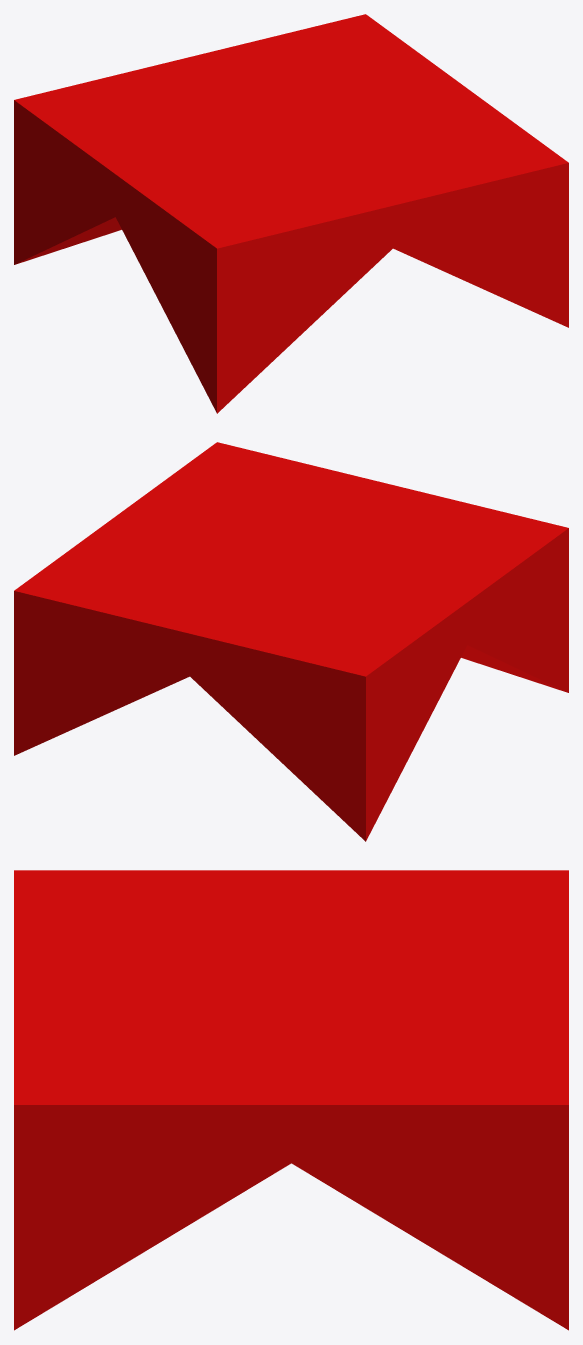
The model's file is Vault1mCollider.fbx.
3 renders of one model, top to bottom at view 1: azimuth 30°, elevation 25°; view 2: azimuth 150°, elevation 25°; view 3: azimuth 270°, elevation 25°, orthographic. The views are drawn at different scales.
Visible parts, largest first — view 1: Vault1mCollision; view 2: Vault1mCollision; view 3: Vault1mCollision.
Part boxes in pixels (x1,y1,x2,y2): Vault1mCollision: [14, 14, 568, 413]; Vault1mCollision: [14, 442, 568, 841]; Vault1mCollision: [14, 870, 568, 1330].
Bounding box in the file's own units: 400 × 179 × 400.
